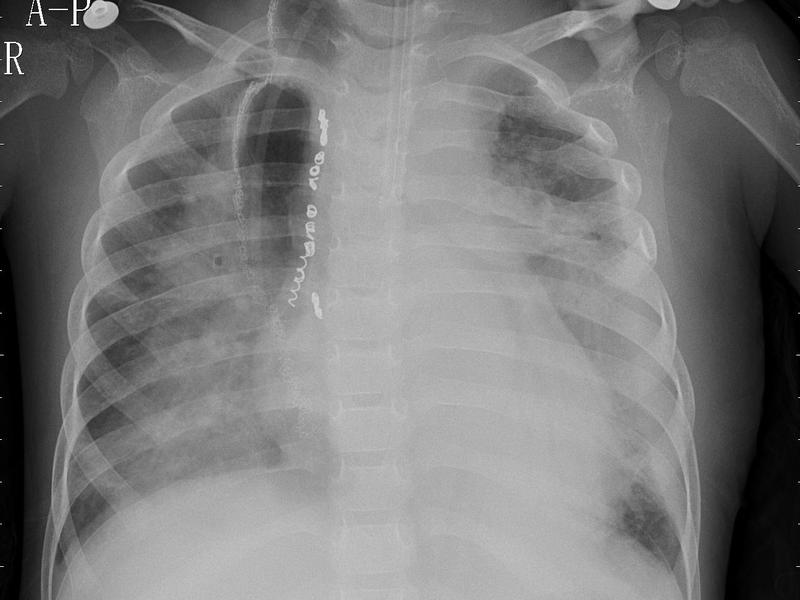PNEUMONIA: (126, 135, 290, 496), (579, 378, 690, 566), (478, 301, 689, 397), (497, 132, 609, 311), (195, 66, 283, 134)
